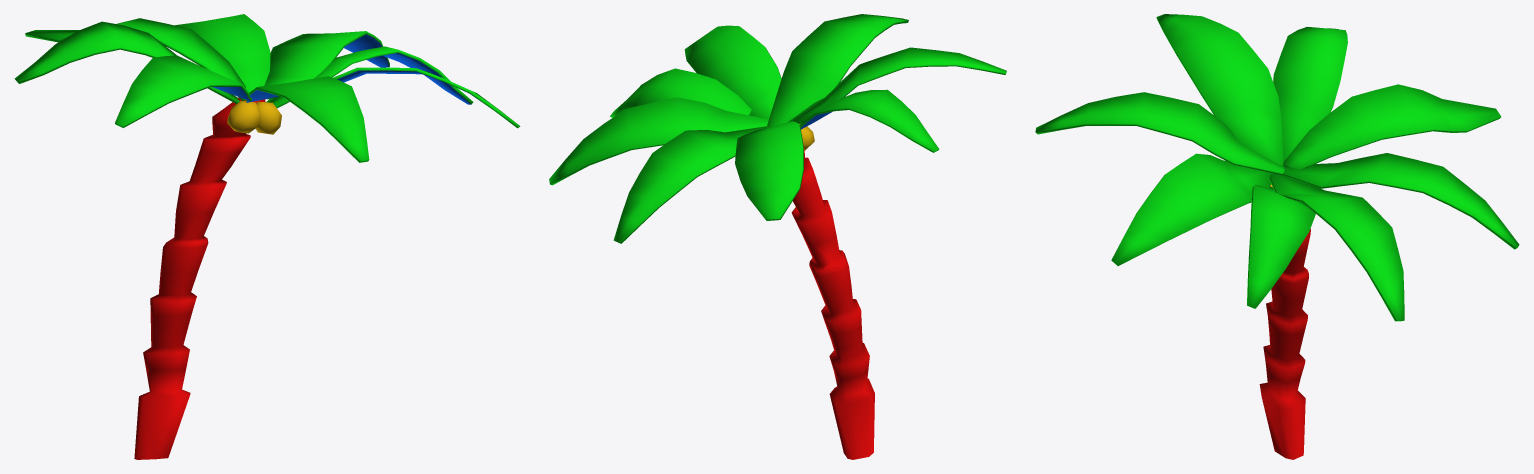
Rendered from Palm_2_001.fbx.
3 views of the same model, side by side, from view 1: azimuth 30°, elevation 25°; view 2: azimuth 150°, elevation 25°; view 3: azimuth 270°, elevation 25° (orthographic). The views are drawn at different scales.
Visible parts, largest first — view 1: Sultry Reef.001; view 2: Sultry Reef.001; view 3: Sultry Reef.001.
Part boxes in pixels (bbox=[...]): Sultry Reef.001: bbox=[14, 14, 520, 459]; Sultry Reef.001: bbox=[549, 14, 1006, 459]; Sultry Reef.001: bbox=[1035, 14, 1519, 459].
Size of the model in its own units: 3.22 by 3.19 by 3.43.
